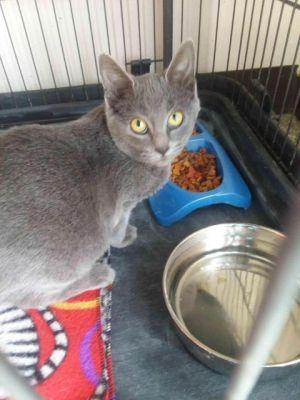rblue: (91, 40, 212, 175)
